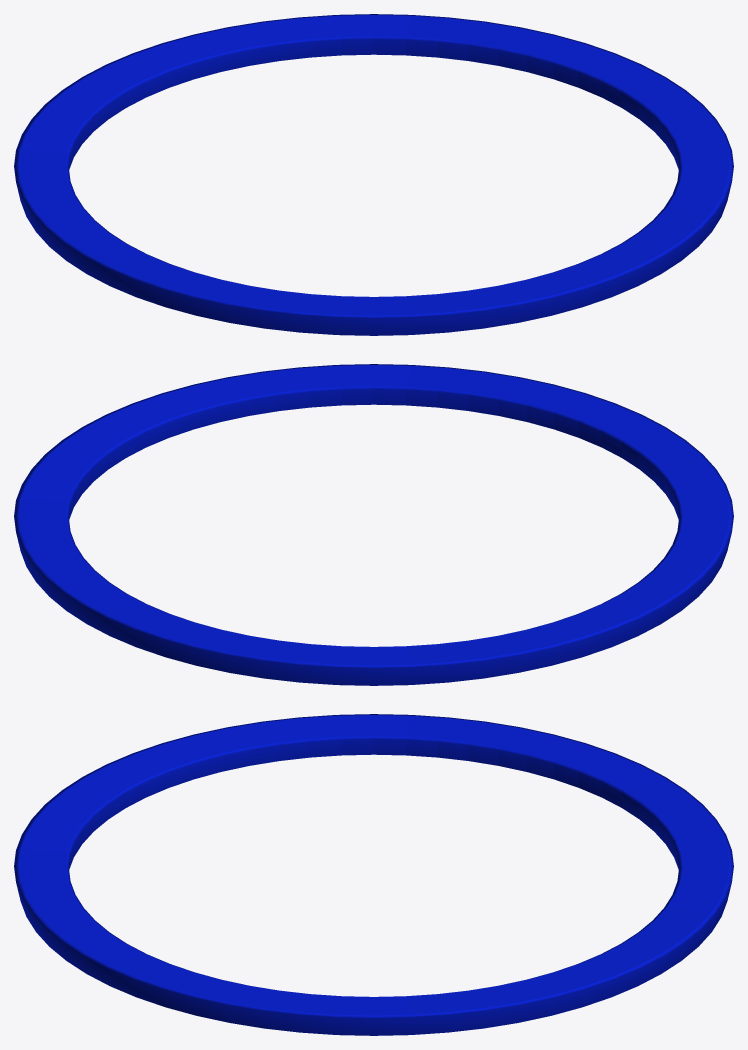
Rendered from Board_Puzzle_Circle_02A.fbx.
3 views of the same model, one above another, from view 1: azimuth 30°, elevation 25°; view 2: azimuth 150°, elevation 25°; view 3: azimuth 270°, elevation 25° (orthographic).
Visible parts, largest first — view 1: Board_Puzzle_Circle_02A; view 2: Board_Puzzle_Circle_02A; view 3: Board_Puzzle_Circle_02A.
Boxes of the visible parts, x1,y1,x2,y2 form: Board_Puzzle_Circle_02A: (14,14,733,335); Board_Puzzle_Circle_02A: (14,364,733,685); Board_Puzzle_Circle_02A: (14,714,733,1035).
Size of the model in its own units: 89.79 by 2.82 by 89.79.
